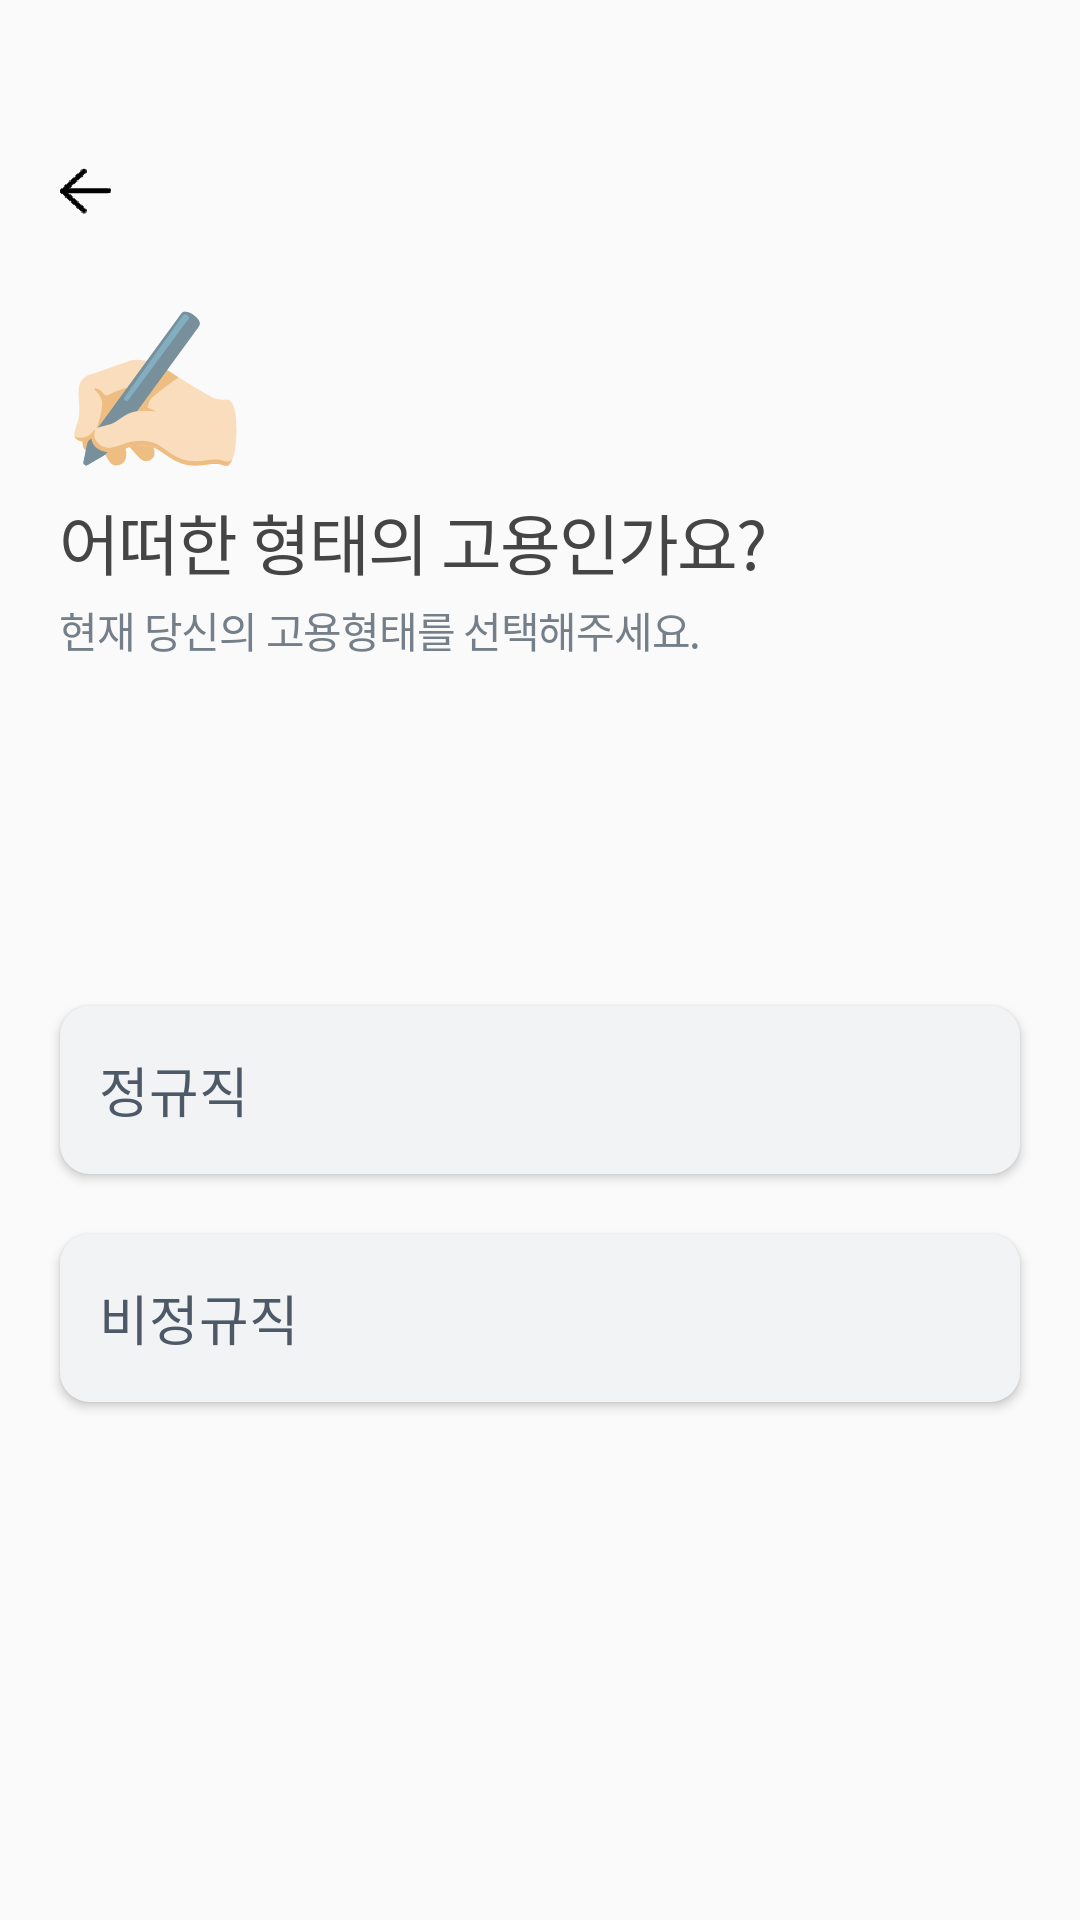

Screen size 1080 x 1920. Icon name, then its center in pixels as (x=x, y=y):
before: (x=85, y=191)
